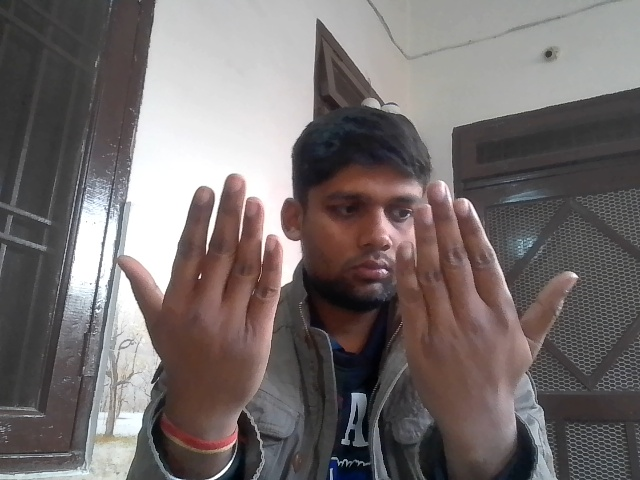ThankYou: (104, 167, 599, 414)
